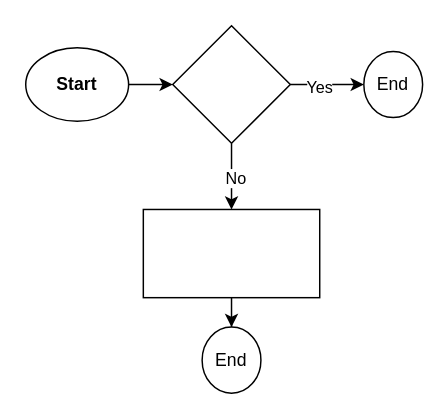
Some shapes in this 448 by 419 pixel diagram are drawn without their labels. Here are the shapes that lost their labels. From the top down, the centre of each, then its label:
At point (230, 83): "course name is empty.".
At point (231, 253): "Type Into - Course name".
